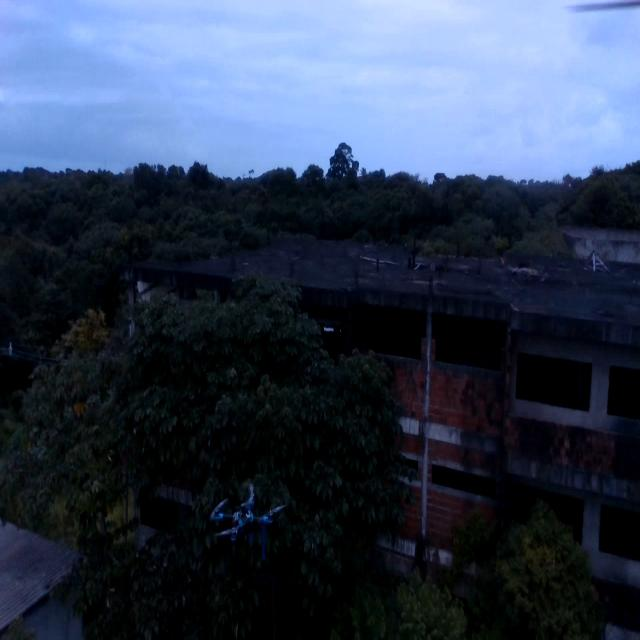-uav-: (204, 472, 287, 572)
